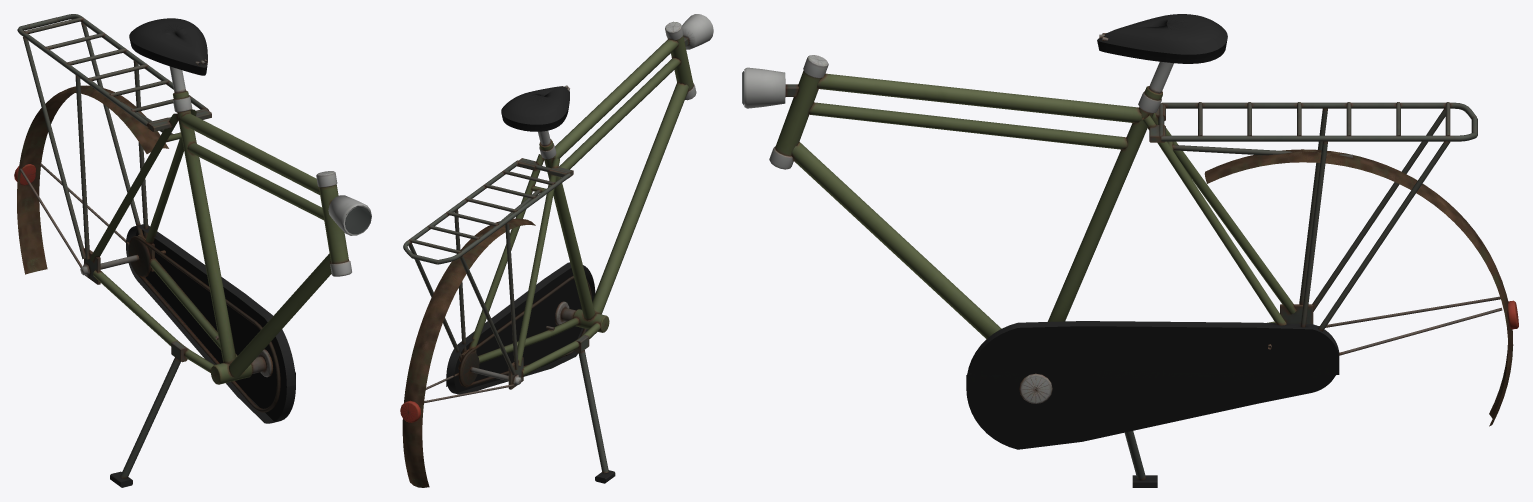
File: bicycle.glb
The picture shows the model from 3 angles, left to right: view 1: azimuth 30°, elevation 25°; view 2: azimuth 150°, elevation 25°; view 3: azimuth 270°, elevation 25°; orthographic projection. The views are drawn at different scales.
Visible parts, largest first — view 1: bicycle, bicycle_glass; view 2: bicycle; view 3: bicycle.
Boxes of the visible parts, x1=… form: bicycle: x1=14, y1=14, x2=371, y2=487; bicycle_glass: x1=345, y1=207, x2=370, y2=234; bicycle: x1=400, y1=14, x2=713, y2=487; bicycle: x1=744, y1=14, x2=1518, y2=487.
Size of the model in its own units: 0.257 by 0.985 by 1.4.
2 materials, 1 textured.
